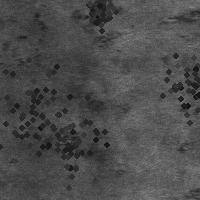rolled-in_scale: (0, 57, 85, 169), (32, 105, 114, 187), (149, 37, 200, 131), (78, 1, 133, 47), (1, 32, 49, 76), (77, 0, 117, 28)
